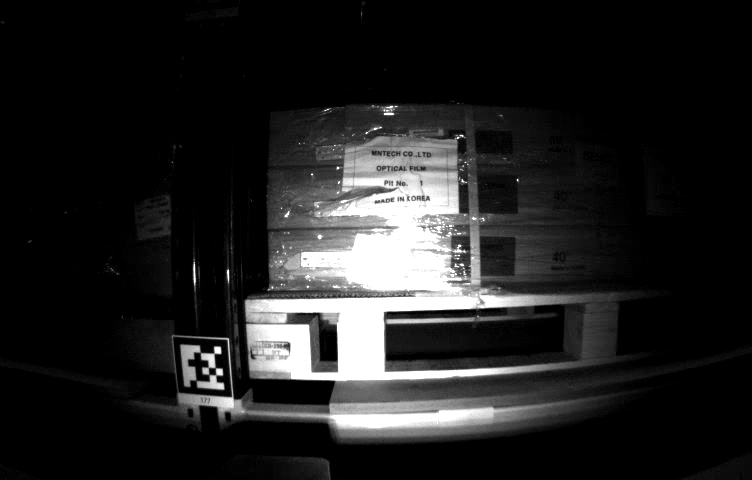True Barcode: (346, 234, 409, 286), (130, 201, 175, 238)
